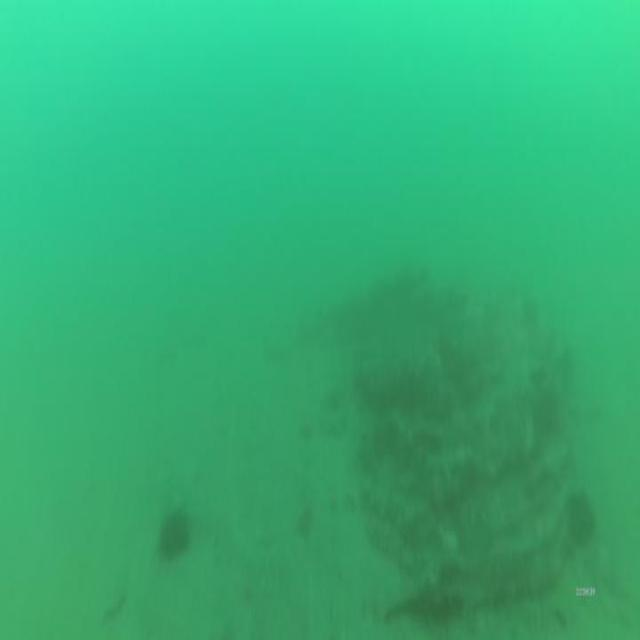echinus: (568, 488, 591, 547), (161, 512, 187, 555)
